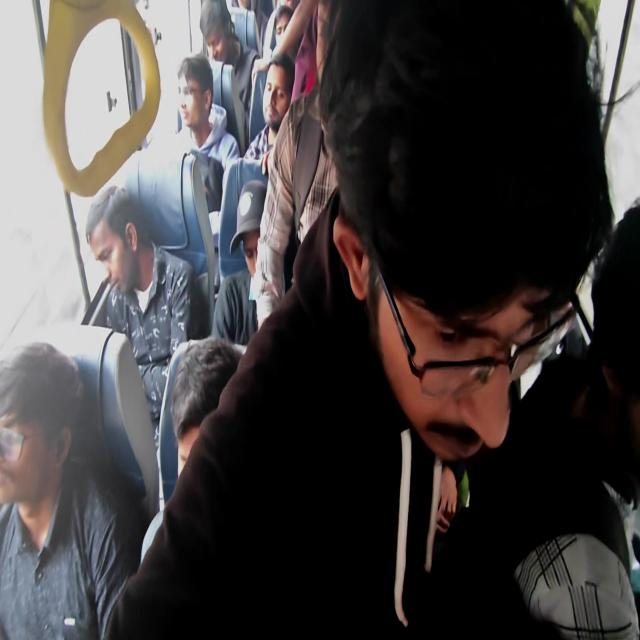person: (340, 17, 610, 538), (0, 394, 103, 558), (585, 240, 640, 512), (165, 343, 233, 501), (90, 189, 155, 300), (312, 10, 366, 124), (175, 65, 215, 148), (239, 194, 267, 267), (202, 8, 230, 63), (279, 17, 305, 69), (260, 79, 290, 124), (230, 0, 264, 28)
